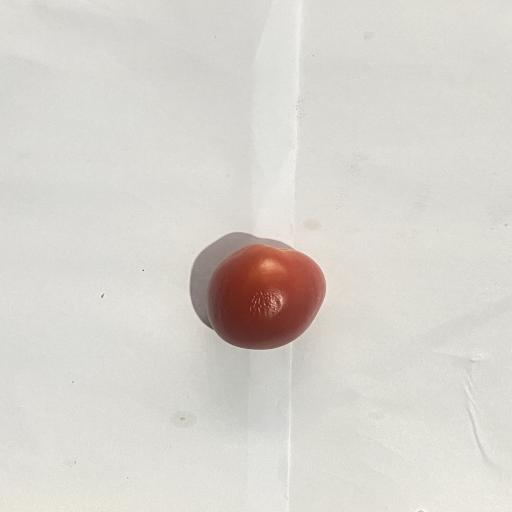overipe: (207, 244, 325, 349)
